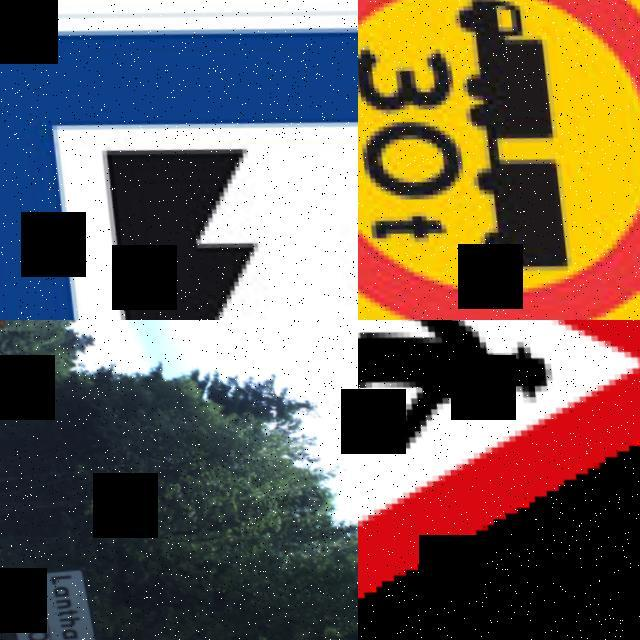181: (0, 550, 110, 640)
59: (0, 0, 358, 320)
Pedestrian crossing: (358, 320, 640, 640)
axle weight limit 30tonnes: (358, 0, 640, 320)
